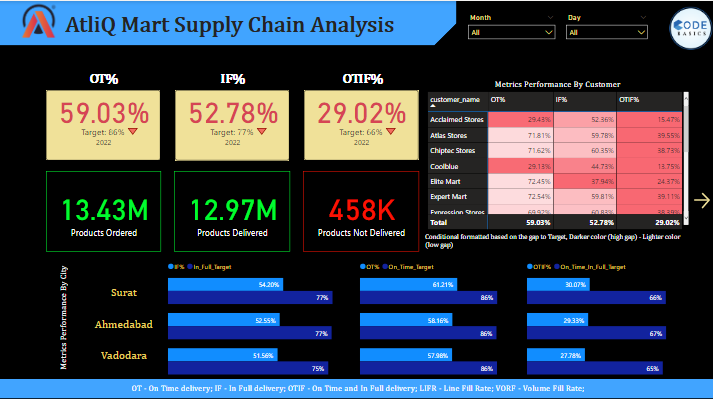

The dashboard page shown, as its layout file describes it:
{"tool":"powerbi","page":{"name":"Intro Page","canvas":[1350,750],"ordinal":0},"visuals":[{"type":"shape","box":[0,0,860.9,84.4],"z":0},{"type":"slicer","fields":{"Values":["dim_date.date.Variation.Date Hierarchy.Month"]},"box":[873.4,17.2,184.3,55.7],"z":0,"group":"g7"},{"type":"kpi","fields":{"TrendLine":["dim_date.date.Variation.Date Hierarchy.Year"],"Indicator":["base_measures.OT%"],"Goal":["base_measures.On_Time_Target"]},"box":[87.5,167.2,215.7,132.9],"z":0,"group":"g2"},{"type":"kpi","fields":{"TrendLine":["dim_date.date.Variation.Date Hierarchy.Year"],"Indicator":["base_measures.OTIF%"],"Goal":["base_measures.OnTimeInFull_Target"]},"box":[574.6,167.2,215.7,132.9],"z":0,"group":"g3"},{"type":"group","id":"g1","title":"Group 2","box":[330.5,167.8,215.7,132.9],"z":0,"group":"g5"},{"type":"kpi","fields":{"TrendLine":["dim_date.date.Variation.Date Hierarchy.Year"],"Indicator":["base_measures.IF%"],"Goal":["base_measures.In_Full_Target"]},"box":[330.5,167.8,215.7,132.9],"z":0,"group":"g1"},{"type":"card","fields":{"Values":["base_measures.Total_Ordered_qty"]},"box":[86.2,320,217.2,151.6],"z":0,"group":"g6"},{"type":"clusteredBarChart","fields":{"Category":["dim_customers.city"],"Y":["base_measures.IF%","base_measures.In_Full_Target"]},"box":[310.5,480.8,363.2,231.8],"z":0,"group":"g4"},{"type":"textbox","box":[117,16.5,643.5,67.5],"z":1000},{"type":"slicer","fields":{"Values":["dim_date.date.Variation.Date Hierarchy.Day"]},"box":[1057.7,17.2,174.3,55.7],"z":1000,"group":"g7"},{"type":"group","id":"g2","title":"Group 2","box":[87.5,167.2,215.7,132.9],"z":1000,"group":"g5"},{"type":"pivotTable","fields":{"Values":["base_measures.IF GAP %"]},"box":[190.3,207.4,112.9,91.4],"z":1000,"group":"g2"},{"type":"pivotTable","fields":{"Values":["base_measures.IF GAP %"]},"box":[677.4,207.4,112.9,91.4],"z":1000,"group":"g3"},{"type":"pivotTable","fields":{"Values":["base_measures.IF GAP %"]},"box":[433.3,208,112.9,91.4],"z":1000,"group":"g1"},{"type":"card","fields":{"Values":["base_measures.Total_Deliverd_qty"]},"box":[327.9,320,218.8,151.6],"z":1000,"group":"g6"},{"type":"clusteredBarChart","fields":{"Category":["dim_customers.city"],"Y":["base_measures.OT%","base_measures.On_Time_Target"]},"box":[673.7,480.8,314.6,231.8],"z":1000,"group":"g4"},{"type":"image","box":[0,0,147,73.5],"z":2000},{"type":"group","id":"g3","title":"Group 2","box":[574.6,167.2,215.7,132.9],"z":2000,"group":"g5"},{"type":"card","fields":{"Values":["base_measures.Orders_not_dileverd"]},"box":[571.6,320,218.8,151.6],"z":2000,"group":"g6"},{"type":"clusteredBarChart","fields":{"Y":["base_measures.OTIF%","base_measures.OnTimeInFull_Target"],"Category":["dim_customers.city"]},"box":[988.3,480.8,314.6,231.8],"z":2000,"group":"g4"},{"type":"pivotTable","fields":{"Values":["base_measures.OT%","base_measures.IF%","base_measures.OTIF%"],"Rows":["dim_customers.customer_name"]},"box":[801.7,166.8,502,270.2],"z":3000},{"type":"textbox","box":[156.5,480.8,154,231.8],"z":3000,"group":"g4"},{"type":"actionButton","box":[1302.9,355.7,47.1,40],"z":4000},{"type":"group","id":"g4","title":"Group 1","box":[156.5,480.8,1146.4,233.8],"z":5000},{"type":"group","id":"g5","title":"Group 3","box":[87.5,167.2,701.6,134.4],"z":6000},{"type":"group","id":"g6","title":"Group 4","box":[86.2,320,704.2,151.6],"z":7000},{"type":"textbox","box":[328.1,128.1,217.2,39.1],"z":8000},{"type":"textbox","box":[87.5,128.1,214.1,39.1],"z":9000},{"type":"group","id":"g7","title":"Group 5","box":[873.4,17.2,357.8,56.2],"z":10000},{"type":"image","box":[1253.1,0,96.9,101.6],"z":11000},{"type":"shape","box":[86.7,480.8,69.8,231.9],"z":12000},{"type":"textbox","box":[574.3,128.4,214.1,38.4],"z":13000},{"type":"shape","box":[801.6,437.5,500,43.8],"z":14000},{"type":"shape","box":[801.7,128.4,500.5,39.9],"z":15000},{"type":"shape","box":[0,713.1,1349.4,36.9],"z":16000}]}

Visuals, with their boxes in screenshot pixels (x1, y1, x2, y2), scaled from the page's 1350x750 canvas onto the 713x399 screenshot:
shape: bbox=[0, 0, 455, 45]
slicer - dim_date.date.Variation.Date Hierarchy.Month: bbox=[461, 9, 559, 39]
kpi - dim_date.date.Variation.Date Hierarchy.Year x base_measures.OT%: bbox=[46, 89, 160, 160]
kpi - dim_date.date.Variation.Date Hierarchy.Year x base_measures.OTIF%: bbox=[303, 89, 417, 160]
"Group 2" group: bbox=[175, 89, 288, 160]
kpi - dim_date.date.Variation.Date Hierarchy.Year x base_measures.IF%: bbox=[175, 89, 288, 160]
card - base_measures.Total_Ordered_qty: bbox=[46, 170, 160, 251]
clusteredBarChart - dim_customers.city x base_measures.IF%: bbox=[164, 256, 356, 379]
textbox: bbox=[62, 9, 402, 45]
slicer - dim_date.date.Variation.Date Hierarchy.Day: bbox=[559, 9, 651, 39]
"Group 2" group: bbox=[46, 89, 160, 160]
pivotTable - base_measures.IF GAP %: bbox=[101, 110, 160, 159]
pivotTable - base_measures.IF GAP %: bbox=[358, 110, 417, 159]
pivotTable - base_measures.IF GAP %: bbox=[229, 111, 288, 159]
card - base_measures.Total_Deliverd_qty: bbox=[173, 170, 289, 251]
clusteredBarChart - dim_customers.city x base_measures.OT%: bbox=[356, 256, 522, 379]
image: bbox=[0, 0, 78, 39]
"Group 2" group: bbox=[303, 89, 417, 160]
card - base_measures.Orders_not_dileverd: bbox=[302, 170, 417, 251]
clusteredBarChart - base_measures.OTIF% x base_measures.OnTimeInFull_Target: bbox=[522, 256, 688, 379]
pivotTable - base_measures.OT% x base_measures.IF%: bbox=[423, 89, 689, 232]
textbox: bbox=[83, 256, 164, 379]
actionButton: bbox=[688, 189, 712, 211]
"Group 1" group: bbox=[83, 256, 688, 380]
"Group 3" group: bbox=[46, 89, 417, 160]
"Group 4" group: bbox=[46, 170, 417, 251]
textbox: bbox=[173, 68, 288, 89]
textbox: bbox=[46, 68, 159, 89]
"Group 5" group: bbox=[461, 9, 650, 39]
image: bbox=[662, 0, 712, 54]
shape: bbox=[46, 256, 83, 379]
textbox: bbox=[303, 68, 416, 89]
shape: bbox=[423, 233, 687, 256]
shape: bbox=[423, 68, 688, 90]
shape: bbox=[0, 379, 712, 398]
